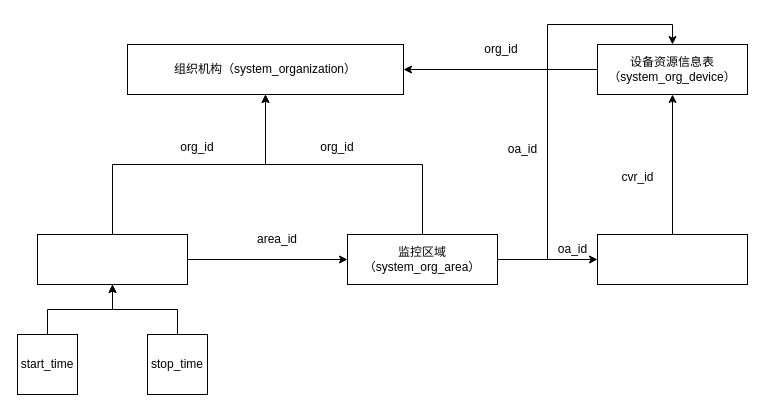
Some shapes in this 765 by 412 pixel diagram are drawn without their labels. The centre of each missing label's shape, as x and y in pixels:
"周界入侵 记录（ofvs_event_record）" goes at (112,259).
"摄像头配置（vms_ipc_cvr）" goes at (672,259).
